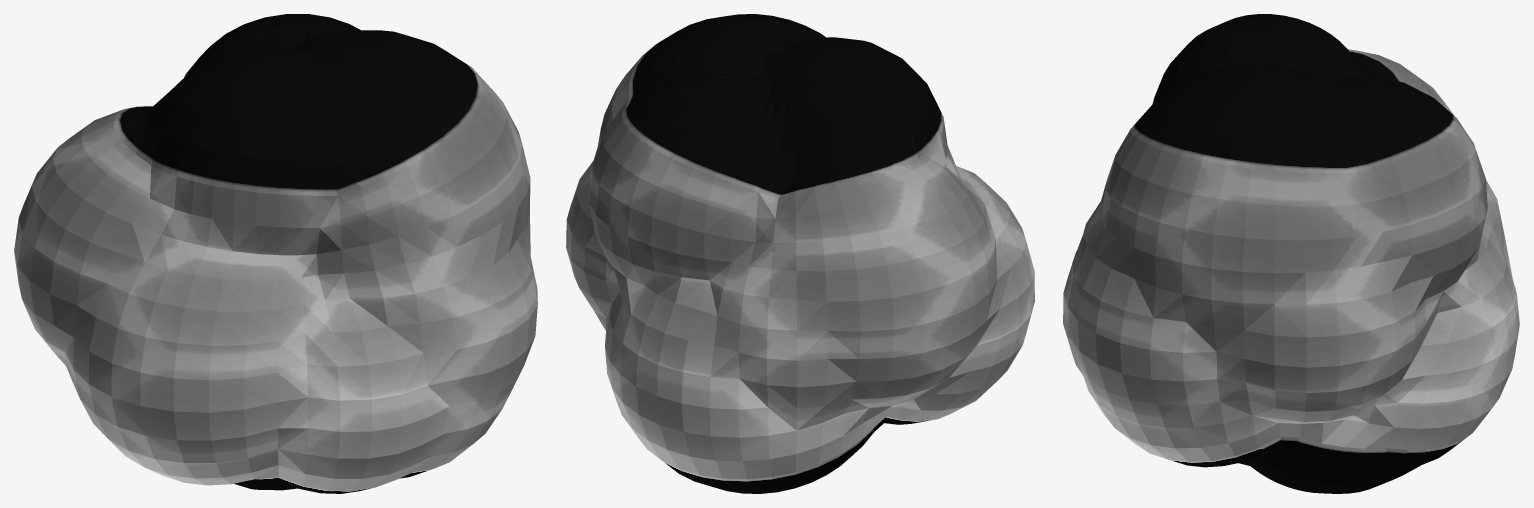
Rendered from 0059_HT_FX_WaSiDan_yanwu.glb.
The picture shows the model from 3 angles, left to right: view 1: azimuth 30°, elevation 25°; view 2: azimuth 150°, elevation 25°; view 3: azimuth 270°, elevation 25°; orthographic projection. The views are drawn at different scales.
Bounding box in the file's own units: 2.2 × 2.14 × 2.05.
Materials: 1 (1 with a texture image).
